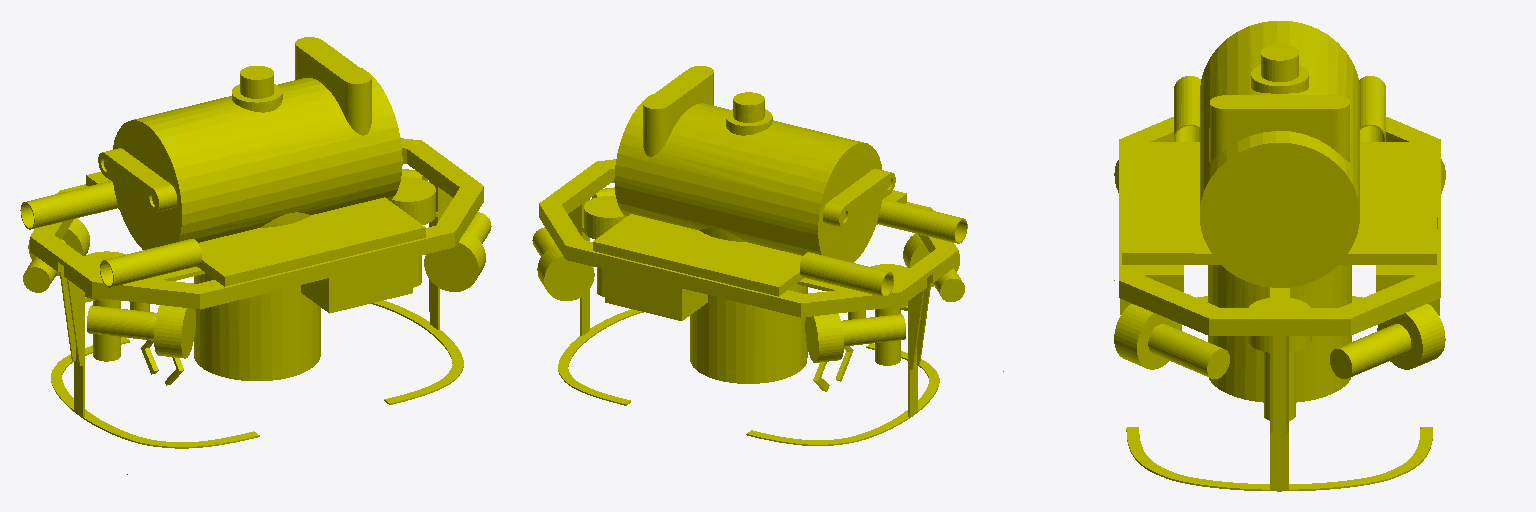
robot.urdf — Bumblebee:
<?xml version="1.0"?>
<robot name="Bumblebee">

<!-- Take reference from urdfs : {nessie5, g500ARM5} urdfs.xarco : {turtlebot_body, turtlebot_kinect} -->

  <!-- base_footprint is a fictitious link(frame) that is on the ground right below base_link origin, navigation stack depends on this frame. Taken from turtlebot_body.urdf.xacro -->


  <link name="base_footprint">

    <inertial>
      <mass value="0.0001" />
      <origin xyz="0 0 0" />
      <inertia ixx="0.0001" ixy="0.0" ixz="0.0"
              iyy="0.0001" iyz="0.0" 
              izz="0.0001" />
    </inertial>

    <visual>
      <origin xyz="0 0 0" rpy="0 0 0" />
      <geometry>
        <box size="0.001 0.001 0.001" />
      </geometry>
    </visual>

    <collision>
      <origin xyz="0 0 0.017" rpy="0 0 0" />
      <geometry>
       <box size="0.001 0.001 0.001" />
      </geometry>
    </collision>
  </link>


  <link name="base_link">
    <inertial>
      <mass value="37"/>
      <inertia ixx="100" ixy="0" ixz="0" iyy="100" iyz="0" izz="100" />
    </inertial>
    <visual>
      <origin rpy="1.57 0 1.57" xyz="0 0 0"/>
      <geometry>
        <mesh filename="package://move_base_bbauv2012/description/bbauv2012.stl" scale="0.001 0.001 0.001"/>
      </geometry>
        <material name="yellow">
          <color rgba="0.8 0.8 0 1" />
        </material>
    </visual>

  </link>


  <joint name="base_footprint_joint" type="fixed">
    <origin xyz="0 0 0" rpy="0 0 0" />        
    <parent link="base_footprint"/>
    <child link="base_link" />
  </joint>


<!-- Thrusters (Any need for it?) -->

<!-- Sensors For SAUVC && RoboSub -->
    <!-- Pressure Sensor -->
    <!-- OceanServer OS5000 -->

<!-- Sensors For SAUVC -->

    <!-- Microsoft Front Cam 

  <link name="front_cam">
    <visual>
      <origin rpy="0 0 1.57" xyz="0.25 -0.37 0.37" />
      <geometry>
        <box size="0.1 0.15 0.1"/>
      </geometry>
    </visual>
  </link>

  <joint name="base_to_front_cam" type="fixed">
    <parent link="base_link"/>
    <child link="front_cam"/>
  </joint>

-->

    <!-- Microsoft Bottom Cam -->

<!-- Sensors For RoboSub -->

    <!-- Stereo Frame -->
    <!-- Left Stereo Cam -->
    <!-- Right Stereo Cam -->
    <!-- PointGrey Front Cam -->
    <!-- PointGrey Bottom Cam -->
    <!-- DVL -->
    <!-- Pressure Sensor -->
    <!-- AHRS - 8 -->


<!--  -->
</robot>

--- Render facts (derived) ---
The picture shows the robot from 3 angles, left to right: view 1: azimuth 30°, elevation 25°; view 2: azimuth 150°, elevation 25°; view 3: azimuth 270°, elevation 25°; orthographic projection.
Model Bumblebee with 2 links and 1 joints (1 fixed), rooted at base_footprint, posed every joint at zero.
Links seen in each view (by area): view 1: base_link; view 2: base_link; view 3: base_link.
Link boxes in pixels (box(x1,y1,x2,y2)): base_link: box(20, 37, 491, 448); base_link: box(532, 66, 967, 445); base_link: box(1114, 21, 1445, 491).
Bounding box of the posed robot: 0.8267 × 0.516 × 0.5839 m (x, y, z).
Meshes: 1 distinct files referenced, 1 mesh visuals loaded (1 binary STL).
